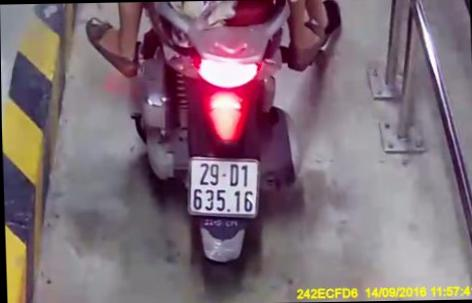LP: (183, 154, 263, 220)
